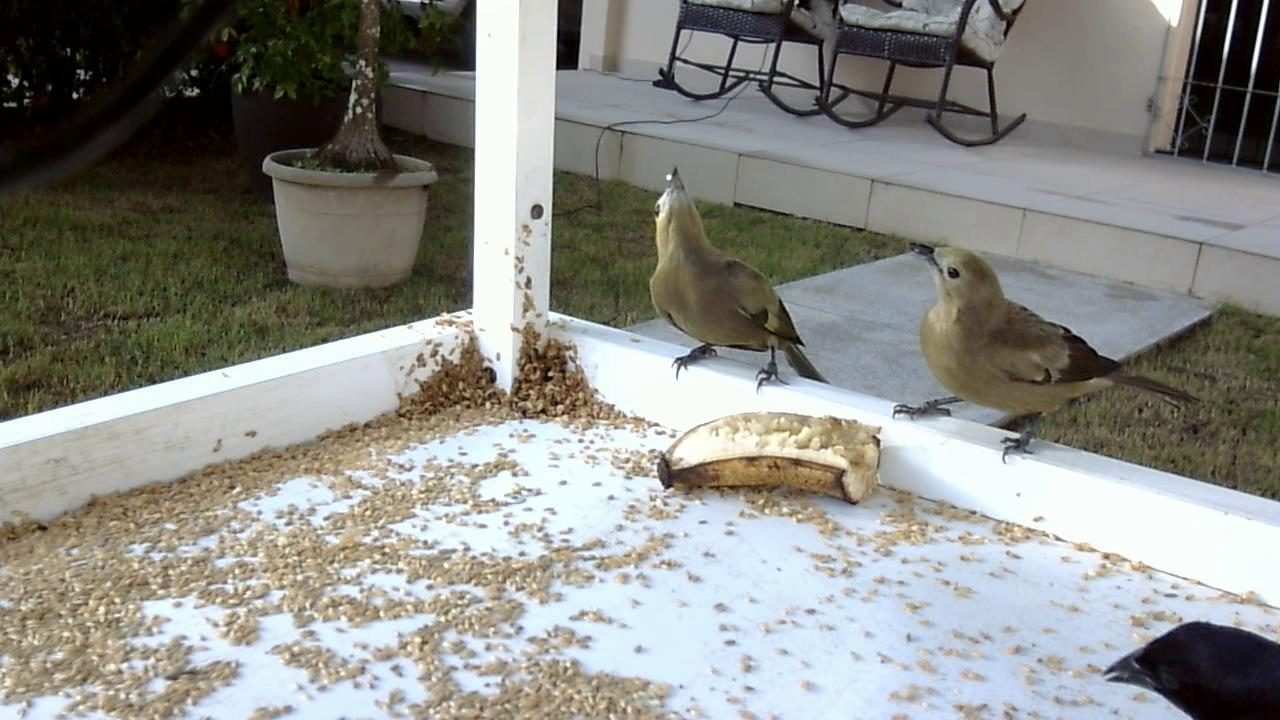chupim: (1090, 609, 1280, 720)
sanhaco_do_coqueiro: (878, 236, 1224, 472), (643, 168, 833, 397)
